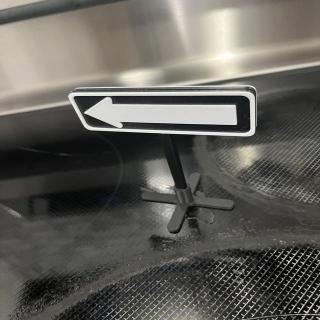sign_oneway_left: (69, 87, 258, 138)
